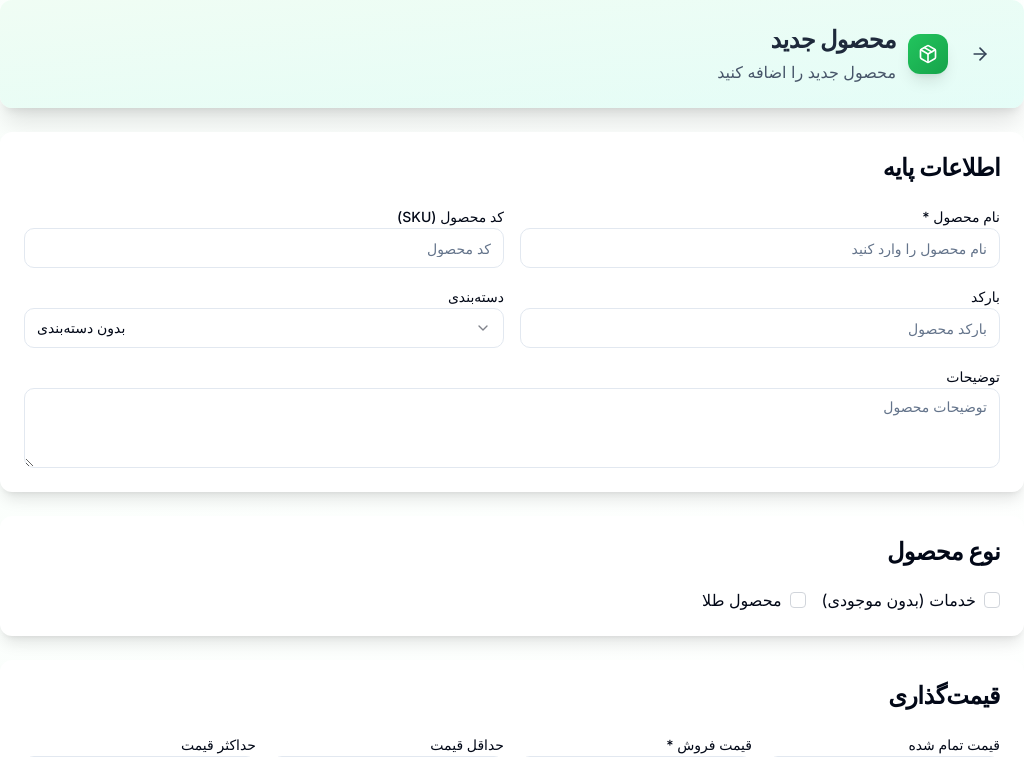
Test: ProductForm › shows gold product fields when gold checkbox is checked
The image size is (1024, 757).
Check: the field labelled "عیار طلا" is not shown
# Check gold product checkbox
Click the checkbox labelled "محصول طلا": (798, 600) [790, 592, 806, 608]
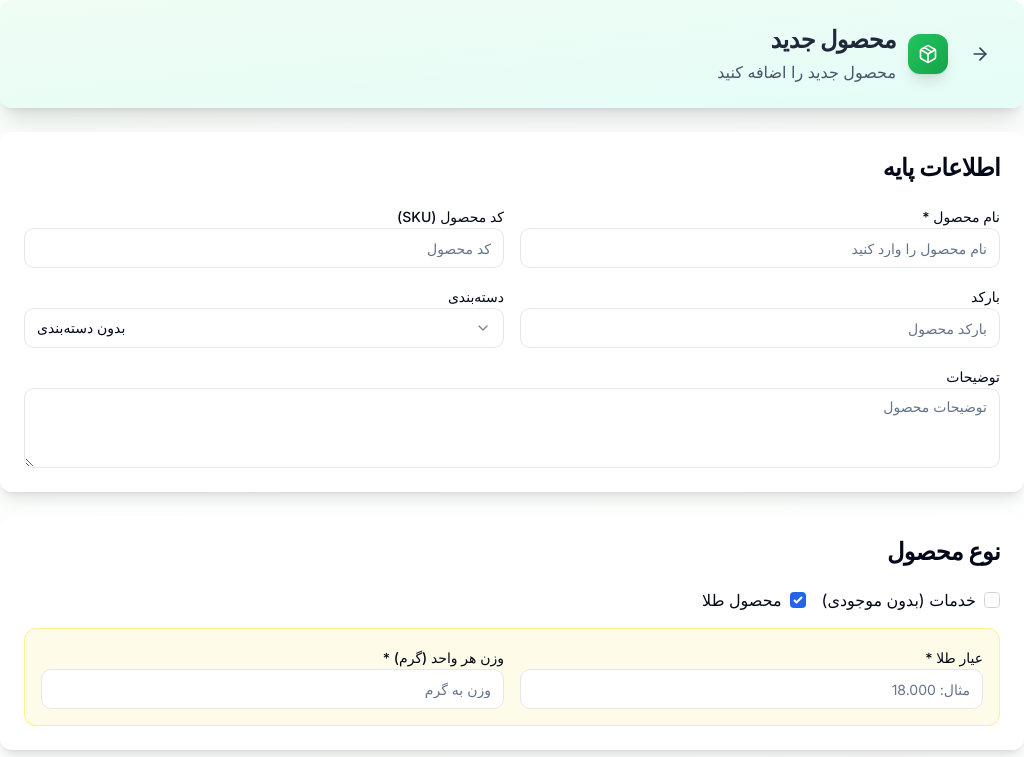
Check: the number field labelled "عیار طلا *" is shown, box [520, 669, 983, 709]
Check: the number field labelled "وزن هر واحد (گرم) *" is shown, box [41, 669, 504, 709]
